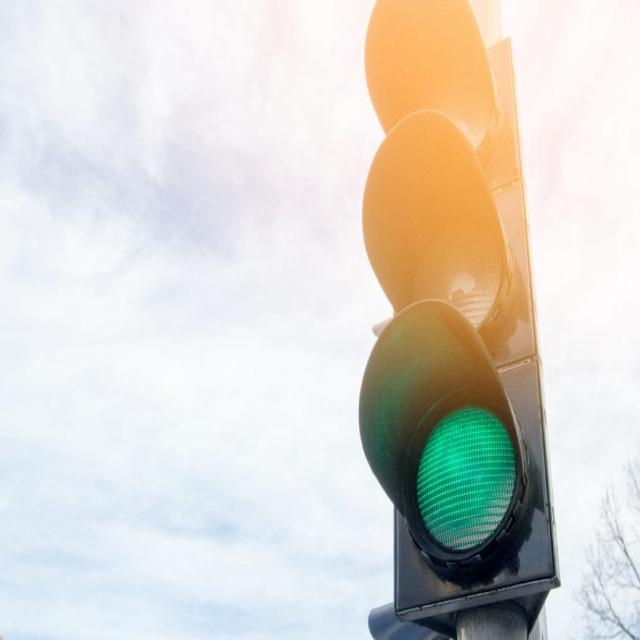green: (394, 389, 530, 553)
